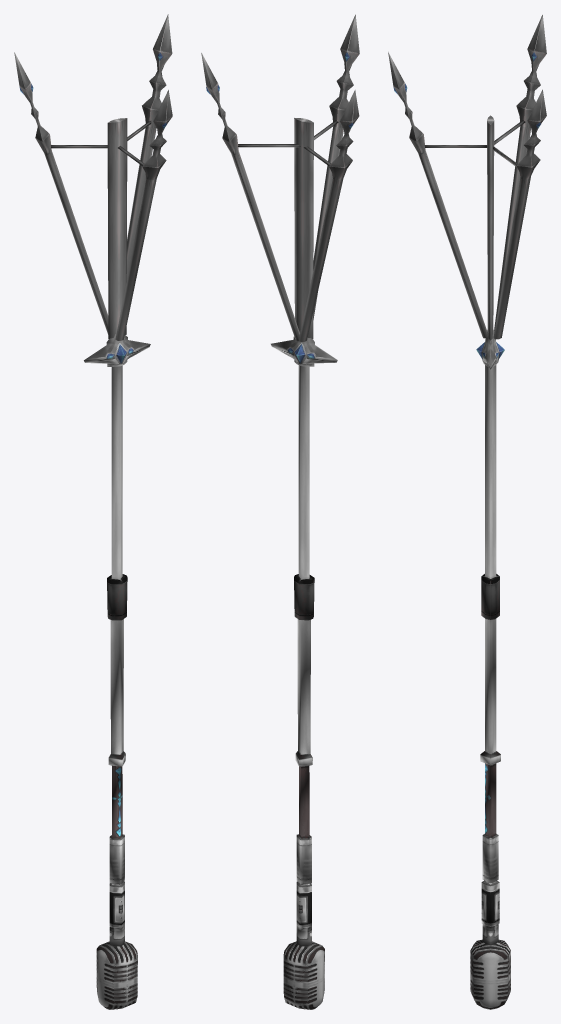
File: Hero_Scarlet_Cos20SL_Weapon.fbx
3 renders of one model, left to right at view 1: azimuth 30°, elevation 25°; view 2: azimuth 150°, elevation 25°; view 3: azimuth 270°, elevation 25°, orthographic.
Parts seen in each view (by area): view 1: Hero_Scarlet_Cos20SL_Weapon; view 2: Hero_Scarlet_Cos20SL_Weapon; view 3: Hero_Scarlet_Cos20SL_Weapon.
Part boxes in pixels (x1,y1,x2,y2): Hero_Scarlet_Cos20SL_Weapon: (14,14,172,1009); Hero_Scarlet_Cos20SL_Weapon: (201,14,359,1009); Hero_Scarlet_Cos20SL_Weapon: (388,15,546,1009).
Bounding box in the file's own units: 0.3397 × 2.02 × 0.3039.
1 material, 1 textured.
